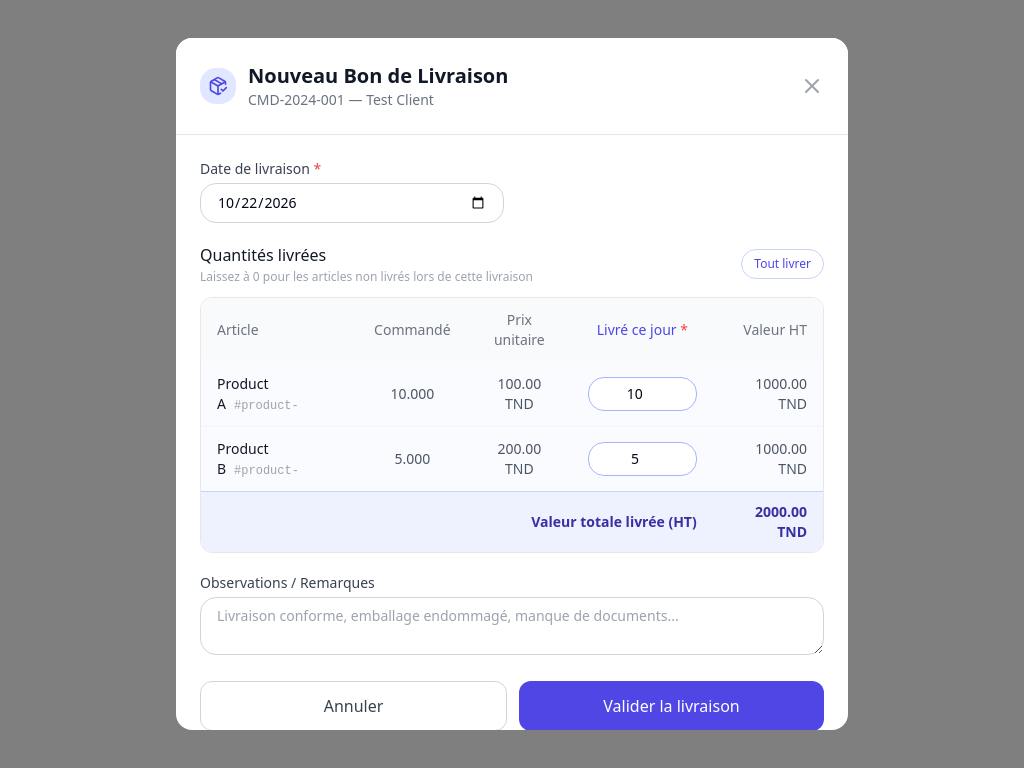
Scenario: DeliveryNoteFromSalesOrderModal › should update line value when quantity changes
Replace the text in the number field in the row of "Product A" with "5" at (642,394), box [588,377,697,411]
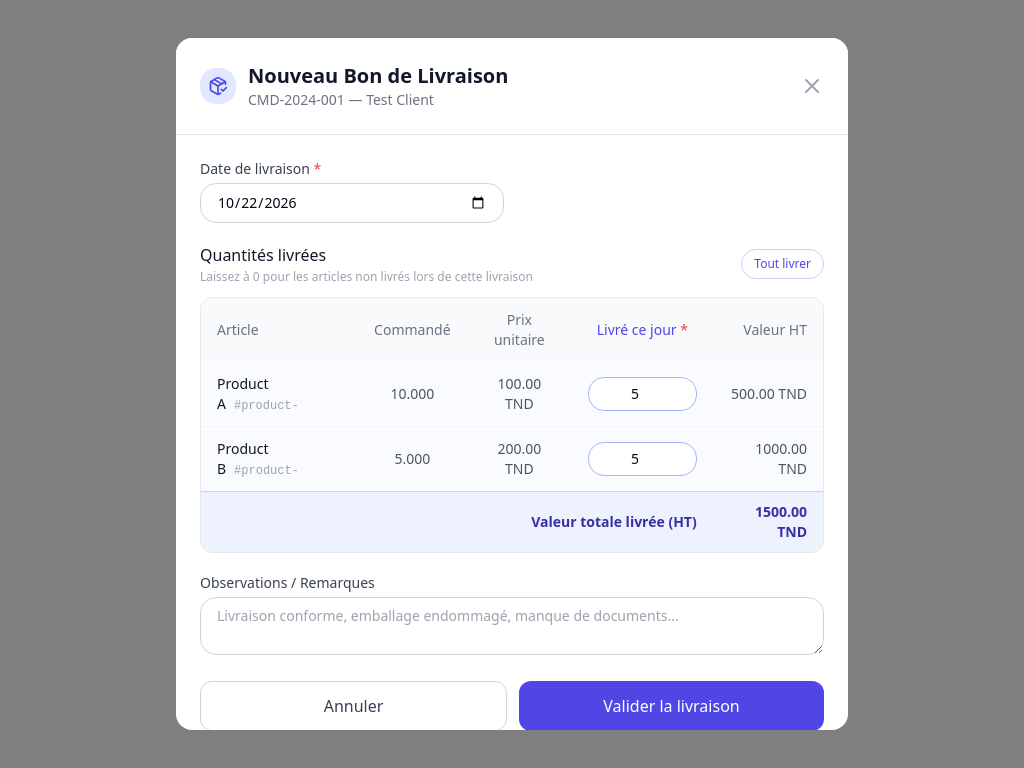
Result: the text "500.00 TND" is shown at [713,362,823,427]
